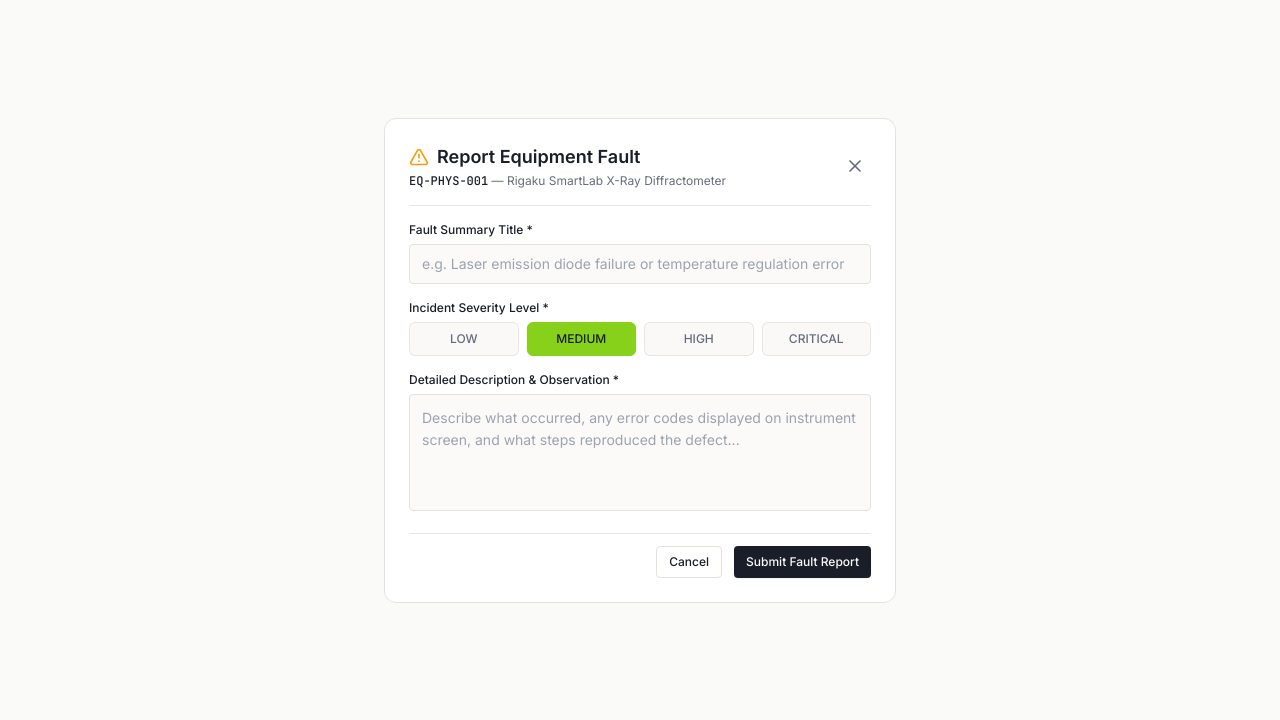
Test: ReportFaultModal › displays critical safety alert banner when CRITICAL severity is chosen
Expected: the text "CRITICAL SEVERITY LOCKDOWN POLICY" is not shown
Click CRITICAL severity button
Click the button "CRITICAL" at (816, 338), box [762,322,871,356]
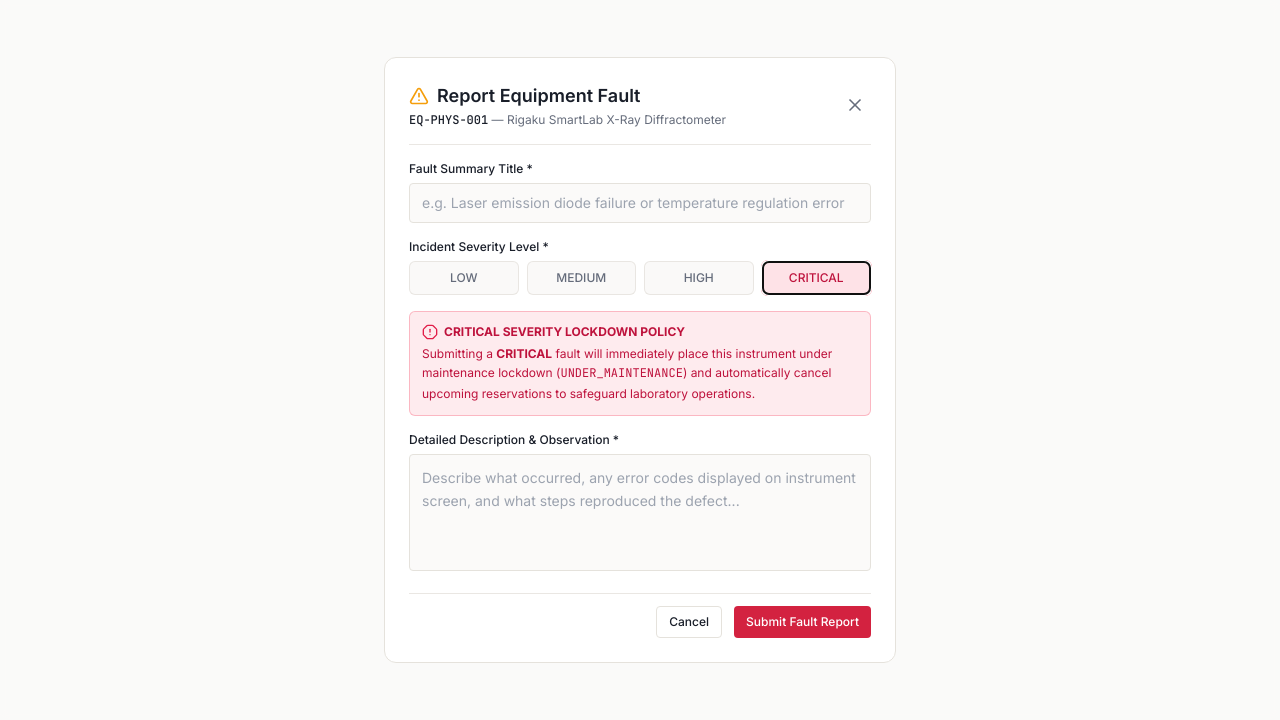
Expected: the text "CRITICAL SEVERITY LOCKDOWN POLICY" is shown, [444,324,685,340]
Expected: the text "immediately place this instrument under maintenance lockdown" is shown, [422,346,832,380]
